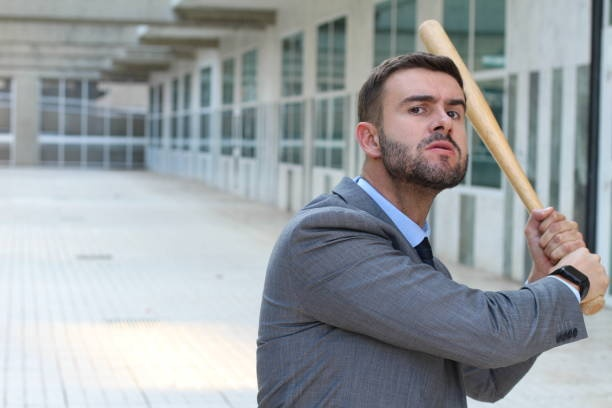bita: (421, 17, 546, 222)
